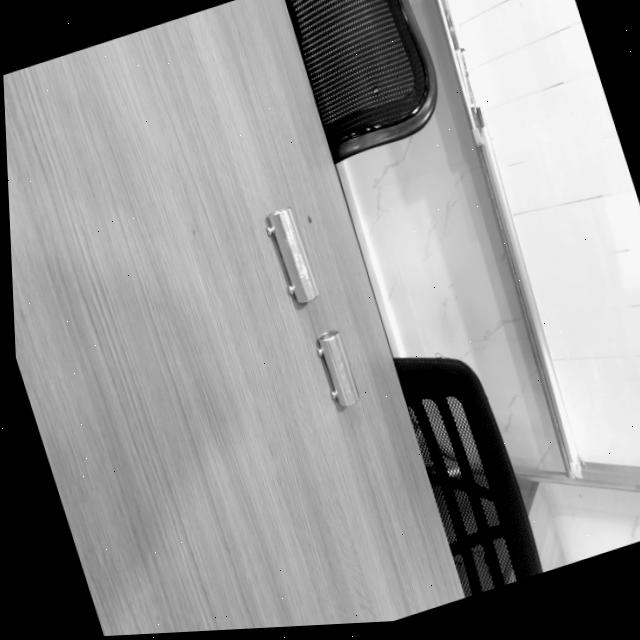Co_Lon: (260, 206, 320, 307)
Co_Nho: (310, 328, 361, 410)
